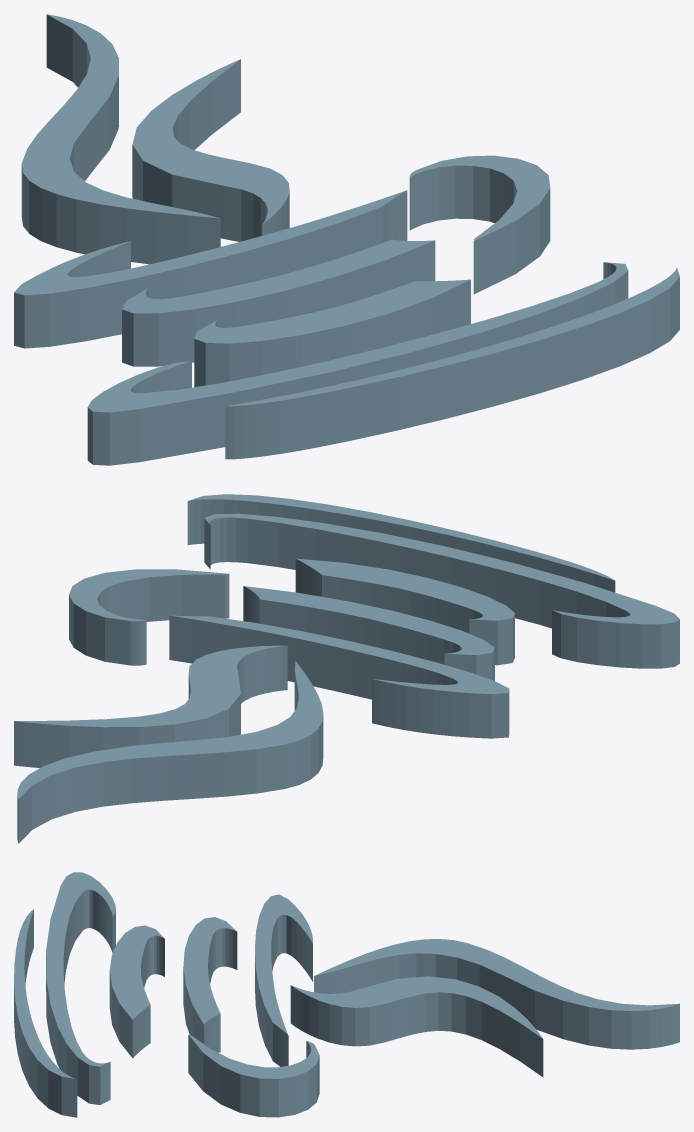
The picture shows the model from 3 angles, top to bottom: view 1: azimuth 30°, elevation 25°; view 2: azimuth 150°, elevation 25°; view 3: azimuth 270°, elevation 25°; orthographic projection. The views are drawn at different scales.
Visible parts, largest first — view 1: Mesh_Mesh_head_geo.001_lambert2SG.001; view 2: Mesh_Mesh_head_geo.001_lambert2SG.001; view 3: Mesh_Mesh_head_geo.001_lambert2SG.001.
Boxes of the visible parts, x1,y1,x2,y2 form: Mesh_Mesh_head_geo.001_lambert2SG.001: [14, 14, 679, 465]; Mesh_Mesh_head_geo.001_lambert2SG.001: [14, 494, 679, 843]; Mesh_Mesh_head_geo.001_lambert2SG.001: [14, 872, 679, 1117].
Size of the model in its own units: 115 by 10 by 157.
